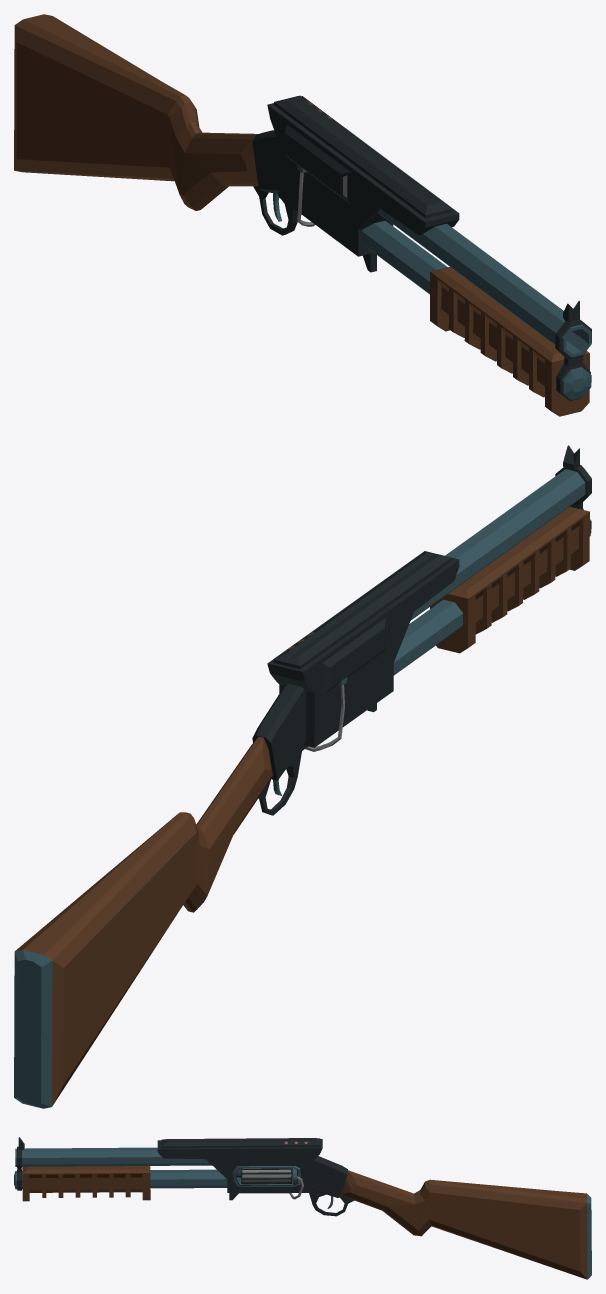
Rendered from Shotgun_V01.fbx.
3 renders of one model, top to bottom at view 1: azimuth 30°, elevation 25°; view 2: azimuth 150°, elevation 25°; view 3: azimuth 270°, elevation 25°, orthographic. The views are drawn at different scales.
Parts seen in each view (by area): view 1: Shotgun_V01; view 2: Shotgun_V01; view 3: Shotgun_V01, Shotgun_battery.
Boxes of the visible parts, <box> form: Shotgun_V01: <box>14,14,591,416</box>; Shotgun_V01: <box>14,445,591,1108</box>; Shotgun_V01: <box>14,1137,591,1279</box>; Shotgun_battery: <box>236,1168,292,1184</box>.
Bounding box in the file's own units: 5.43 × 26.4 × 99.97.
